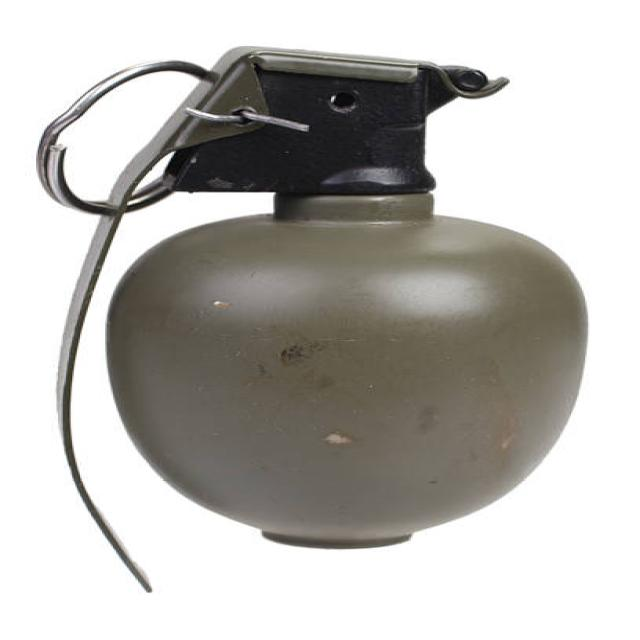grenade: (25, 42, 606, 601)
